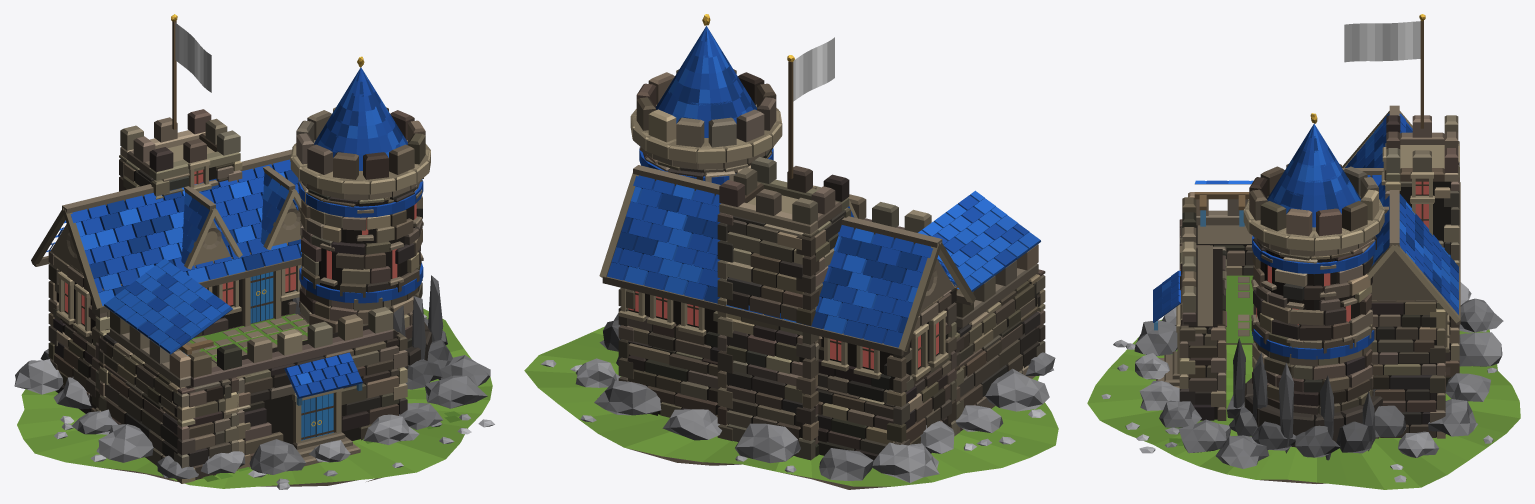
File: castle.glb
3 renders of one model, left to right at view 1: azimuth 30°, elevation 25°; view 2: azimuth 150°, elevation 25°; view 3: azimuth 270°, elevation 25°, orthographic. The views are drawn at different scales.
Visible parts, largest first — view 1: castle; view 2: castle; view 3: castle.
Boxes of the visible parts, x1,y1,x2,y2 form: castle: (14, 14, 494, 489); castle: (524, 14, 1058, 489); castle: (1087, 14, 1520, 489).
Bounding box in the file's own units: 3.7 × 2.97 × 3.12.
